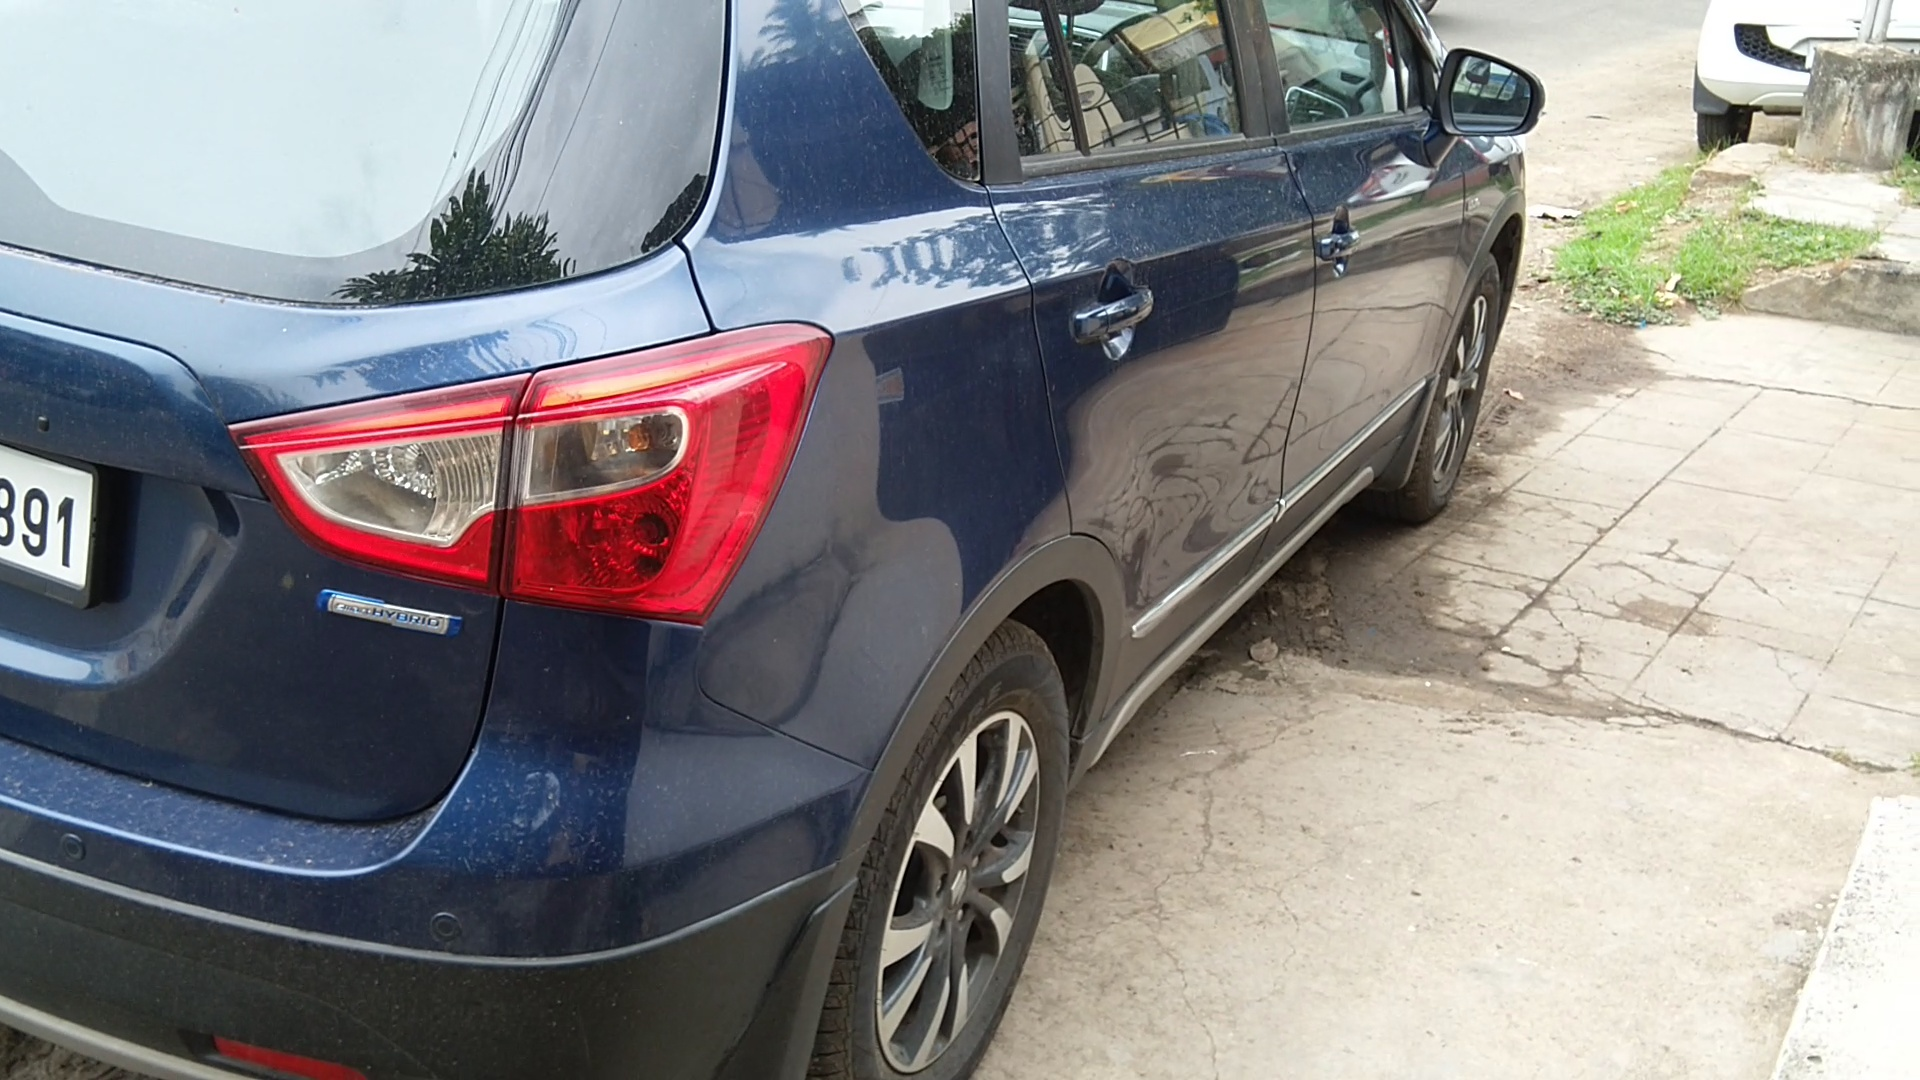alloy_wheel: (844, 657, 1081, 1080), (1411, 270, 1514, 512)
shvs: (305, 585, 488, 647)
